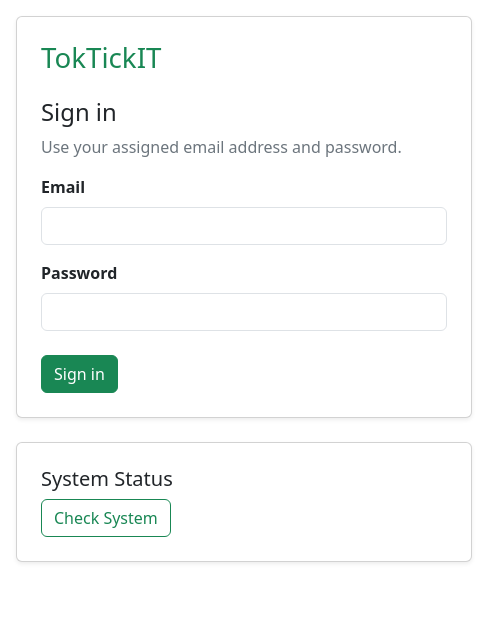
Scenario: App › shows a loading state while the API request is pending
What coordinates should you click on to do the following:
click the button "Check System"
I would click on:
 (106, 518)
Its box is [41,499,171,537].
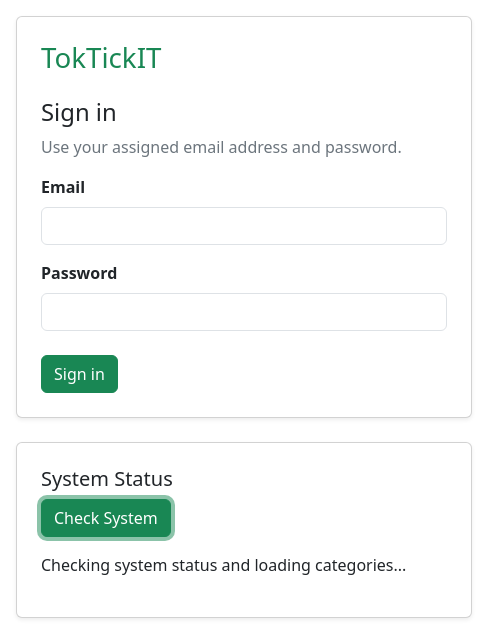
Expected: the message shows "Checking system status and loading categories", [41,554,406,576]
